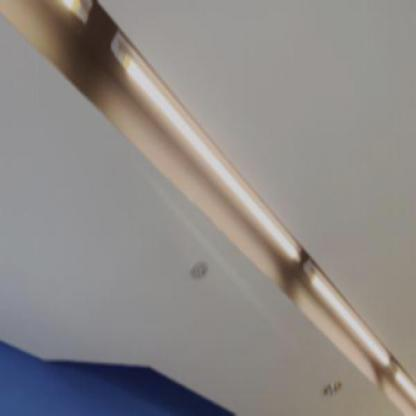light_on: (106, 22, 302, 270), (301, 246, 390, 385), (50, 0, 99, 38), (394, 357, 416, 407)
